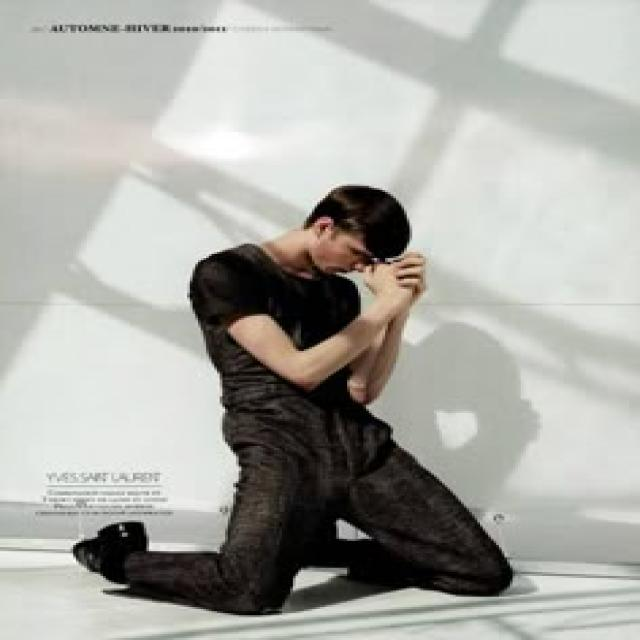9_cabeza_baja: (272, 184, 411, 275)
